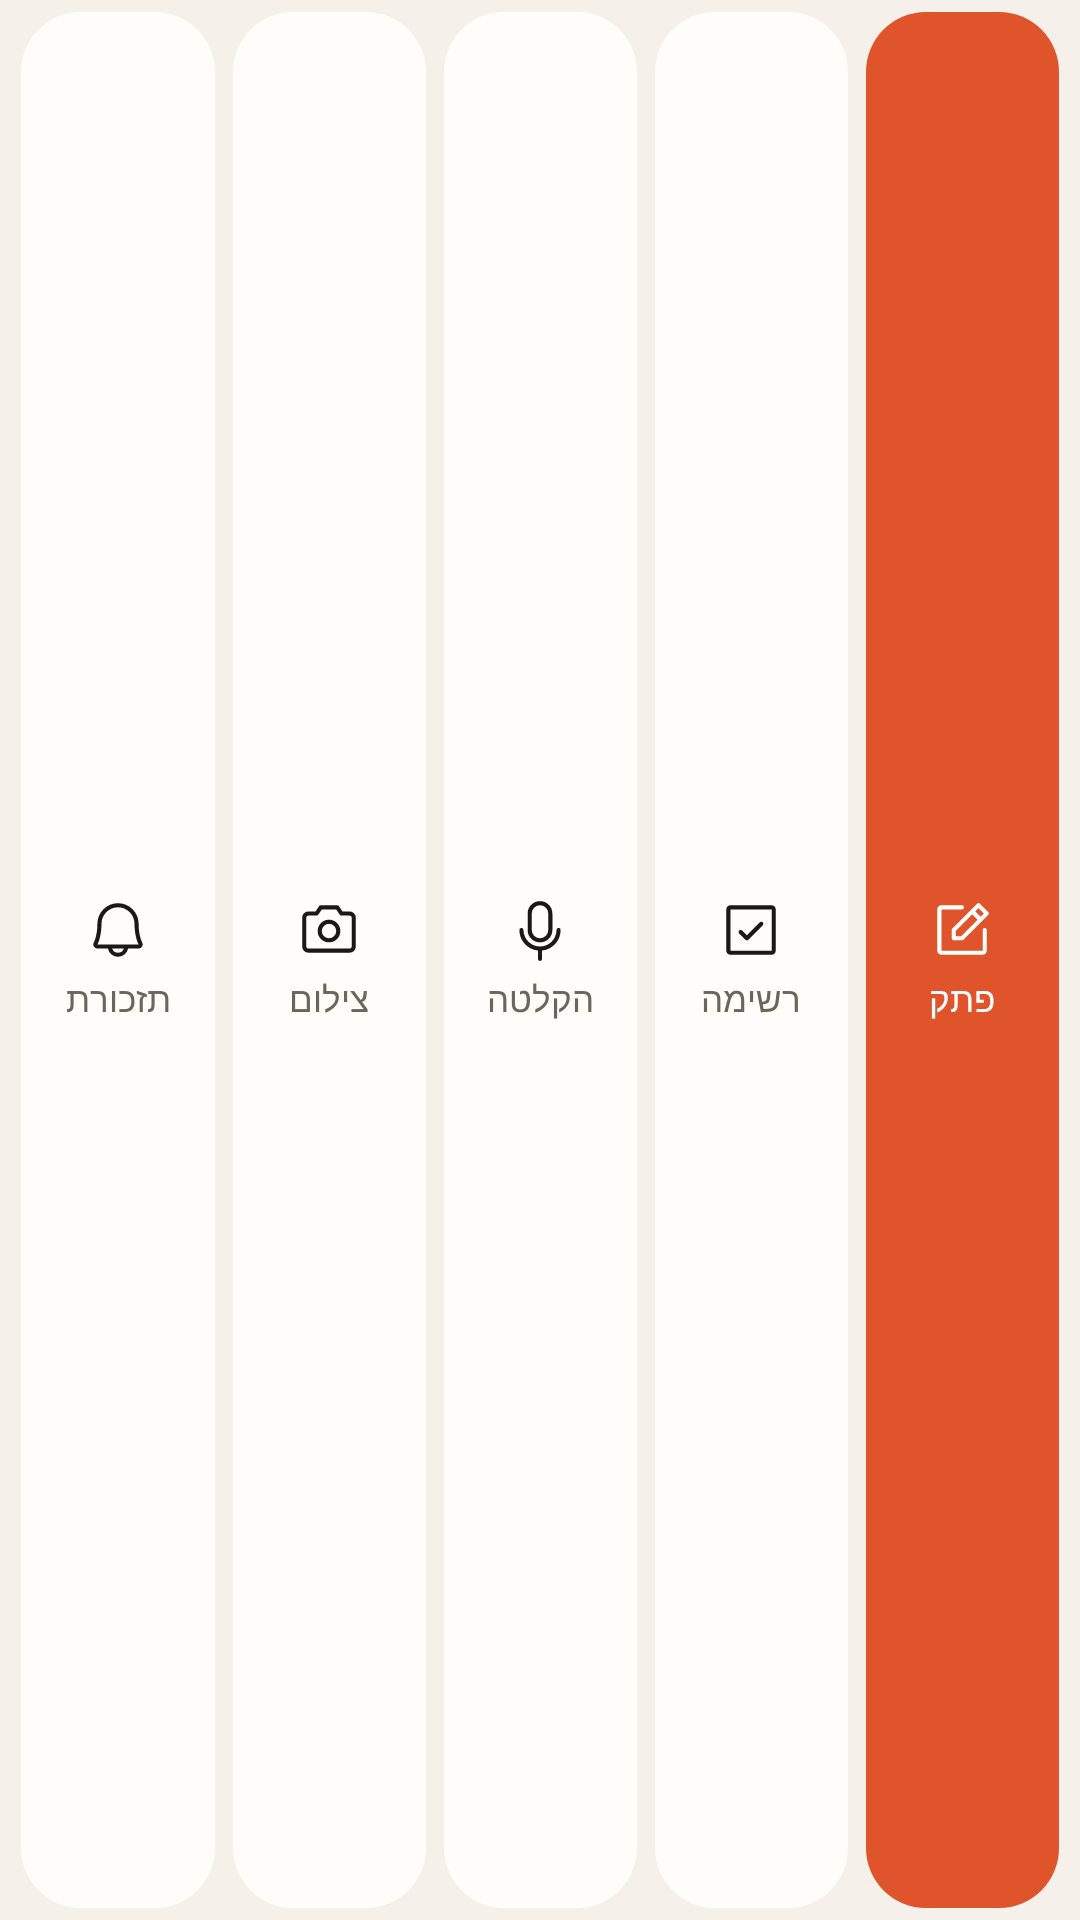

Where icons sit on this 1080*1920 app screen, as (x1, y1, x2, y2):
bell: (93, 903, 143, 957)
camera: (302, 905, 356, 953)
check square: (726, 905, 776, 955)
microphone: (519, 901, 561, 961)
